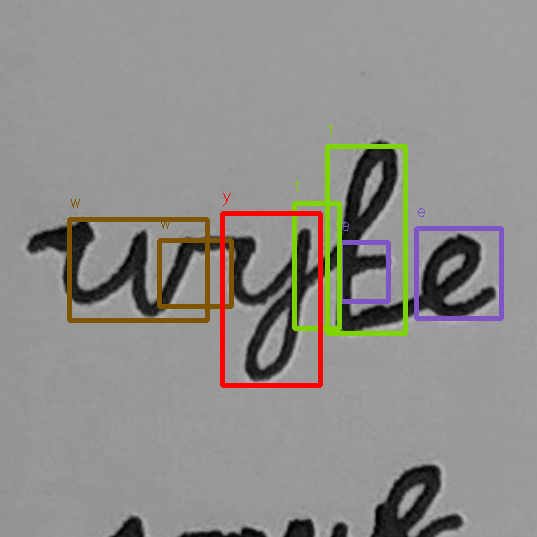e: (415, 226, 499, 326)
t: (327, 134, 406, 340)
w: (55, 211, 200, 324)
y: (219, 220, 318, 387)
